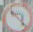Don't turn left: (3, 2, 31, 31)
